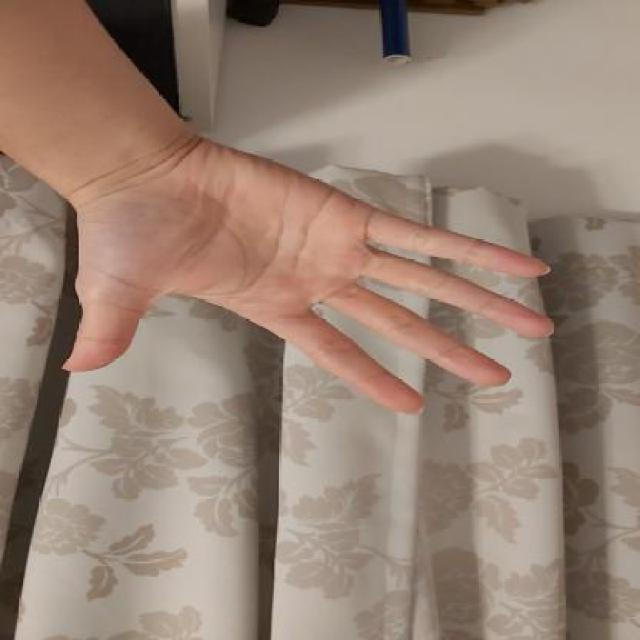bare_hand: (47, 124, 576, 428)
